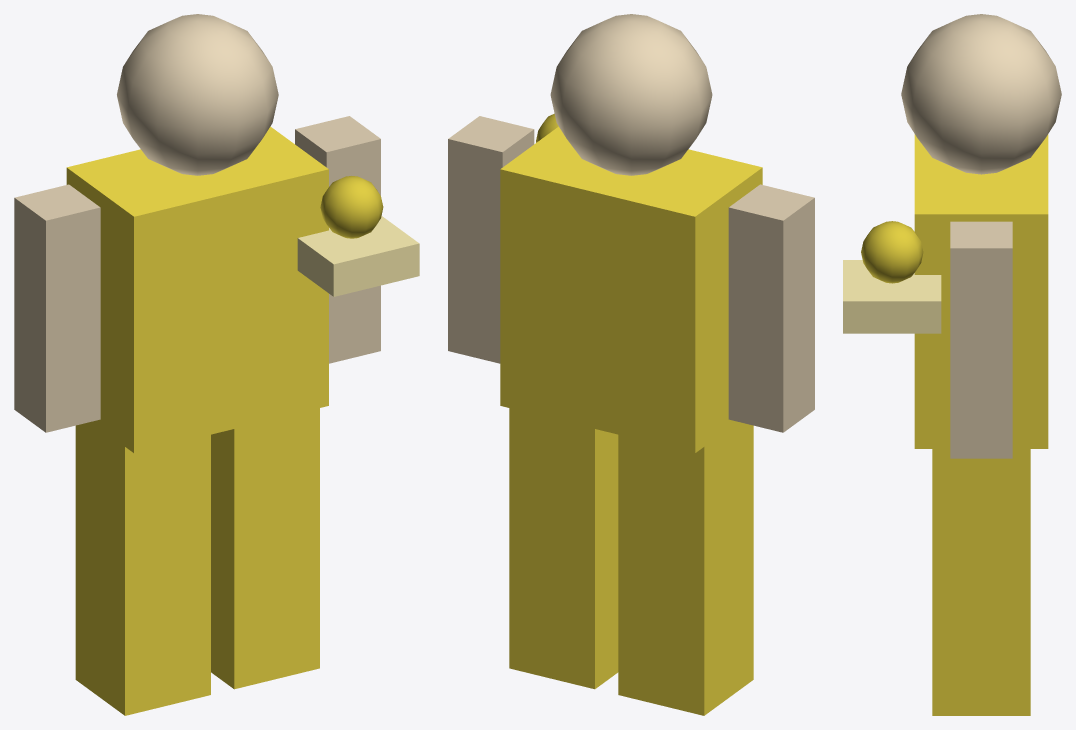
Rendered from shop.glb.
3 renders of one model, left to right at view 1: azimuth 30°, elevation 25°; view 2: azimuth 150°, elevation 25°; view 3: azimuth 270°, elevation 25°, orthographic.
Parts seen in each view (by area): view 1: npc; view 2: npc; view 3: npc.
Part boxes in pixels (x1=…): npc: x1=14, y1=14, x2=419, y2=715; npc: x1=448, y1=14, x2=814, y2=715; npc: x1=843, y1=14, x2=1061, y2=715.
Bounding box in the file's own units: 0.86 × 1.6 × 0.49.
